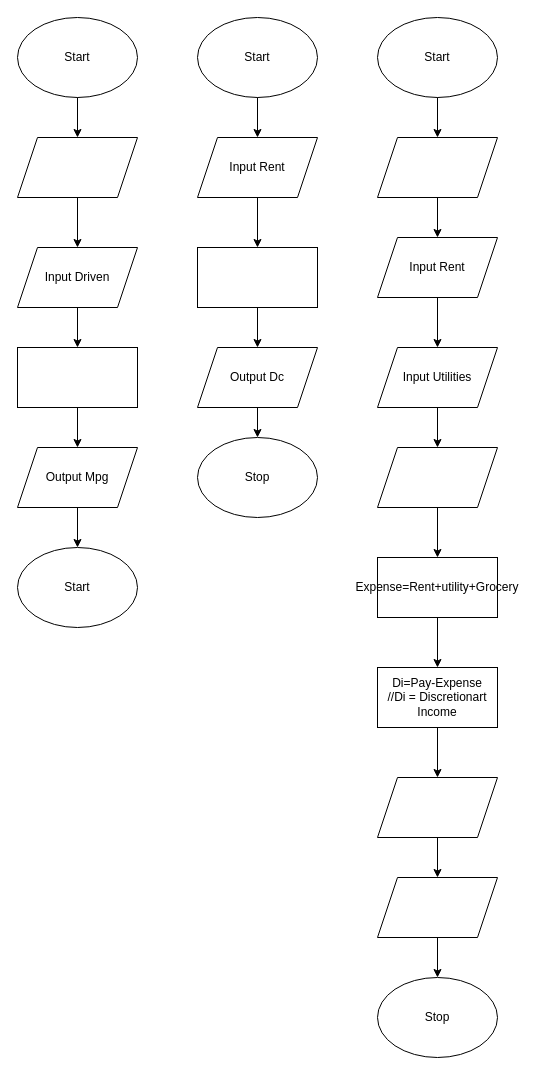
Some shapes in this 536 by 1075 pixel diagram are drawn without their labels. Here are the shapes that lost their labels. From the top down, the centre of each, then its label:
At [77,167]: "Input Gas".
At [437,167]: "Input Pay".
At [257,277]: "Dc=Rent/30 //Dc=Daily cost".
At [77,377]: "Mpg=Driven/gas".
At [437,477]: "Input Grocery".
At [437,807]: "Output Expense".
At [437,907]: "Output Di".
